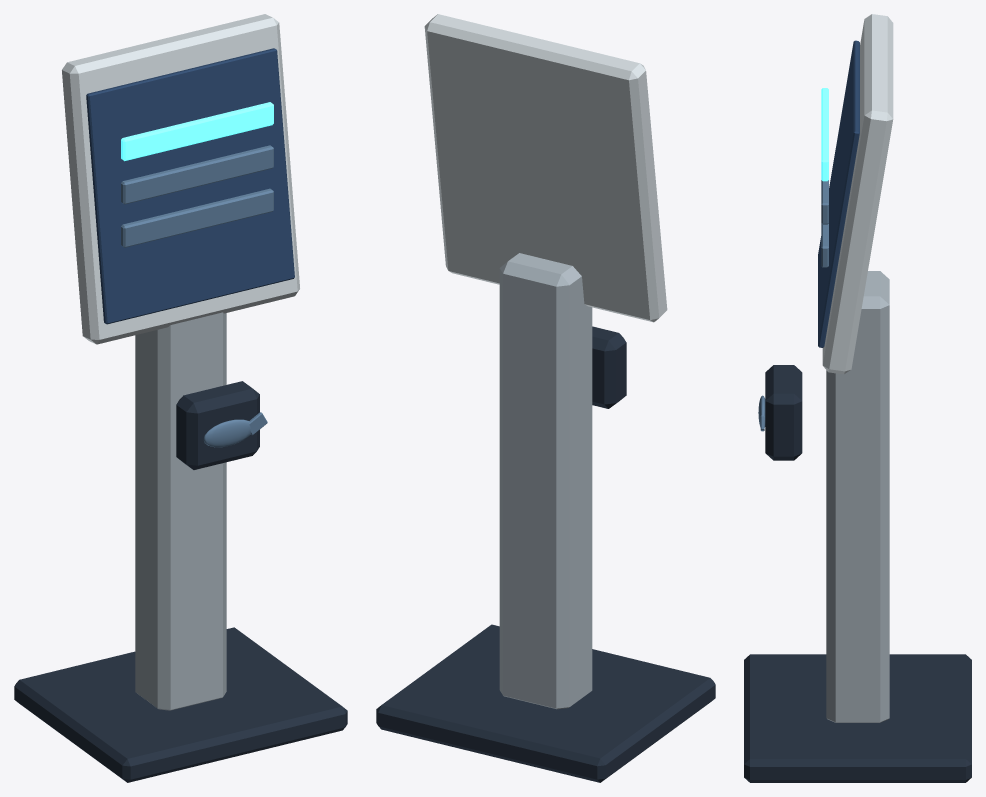
The model's file is restaurant_04.glb.
The picture shows the model from 3 angles, left to right: view 1: azimuth 30°, elevation 25°; view 2: azimuth 150°, elevation 25°; view 3: azimuth 270°, elevation 25°; orthographic projection. The views are drawn at different scales.
Visible parts, largest first — view 1: TabletScreen, KioskPost, KioskBase, TabletBody, MenuTile (×3), PayReader, WhaleBody; view 2: TabletBody, KioskPost, KioskBase, PayReader; view 3: KioskPost, KioskBase, TabletBody, TabletScreen, PayReader, MenuTile.
Part boxes in pixels (<box>): TabletScreen: <box>86,48,294,324</box>; KioskPost: <box>135,312,226,710</box>; KioskBase: <box>14,627,347,782</box>; TabletBody: <box>62,14,299,344</box>; MenuTile (×3): <box>121,102,273,247</box>; PayReader: <box>176,381,259,469</box>; WhaleBody: <box>203,419,250,447</box>; TabletBody: <box>424,14,667,322</box>; KioskPost: <box>499,253,592,709</box>; KioskBase: <box>376,624,715,782</box>; PayReader: <box>592,326,626,408</box>; KioskPost: <box>826,271,889,722</box>; KioskBase: <box>744,654,971,782</box>; TabletBody: <box>822,14,893,374</box>; TabletScreen: <box>818,40,859,347</box>; PayReader: <box>765,365,802,460</box>; MenuTile: <box>821,88,828,181</box>.
Size of the model in its own units: 0.49 by 1.39 by 0.43.
